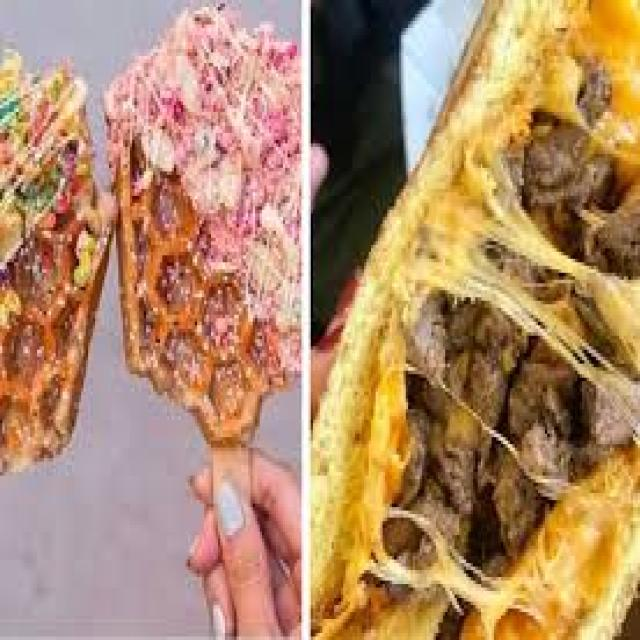Organik: (320, 0, 640, 637), (111, 0, 311, 434), (0, 25, 113, 488)
